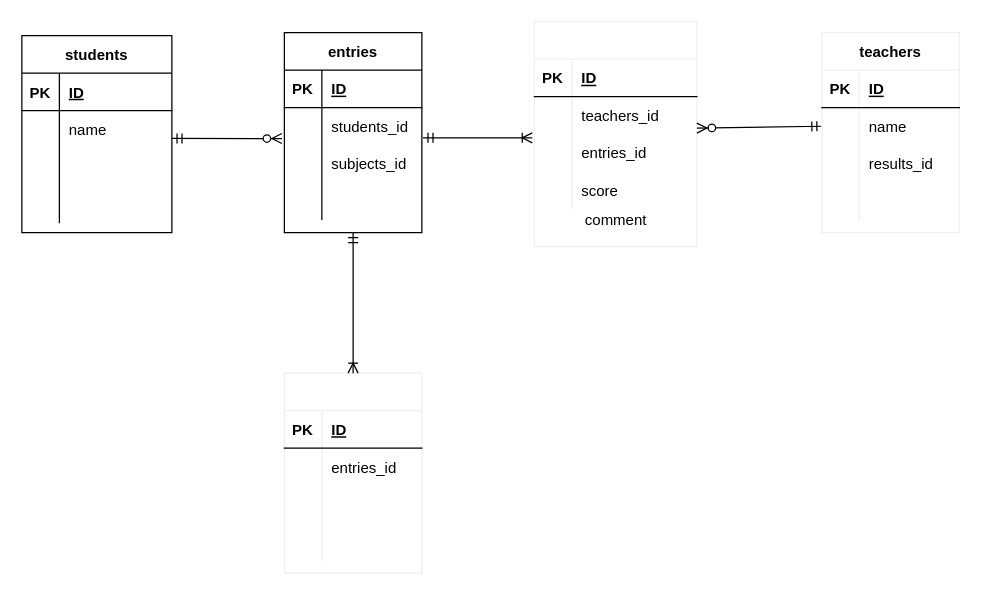
The diagram is 981 pixels wide and 596 high, and some of its shapes have lost their labels. Here are the shapes that lost their labels. From the top down, the box of each, then its label:
(533, 20, 697, 247): results
(283, 372, 422, 573): subjects
